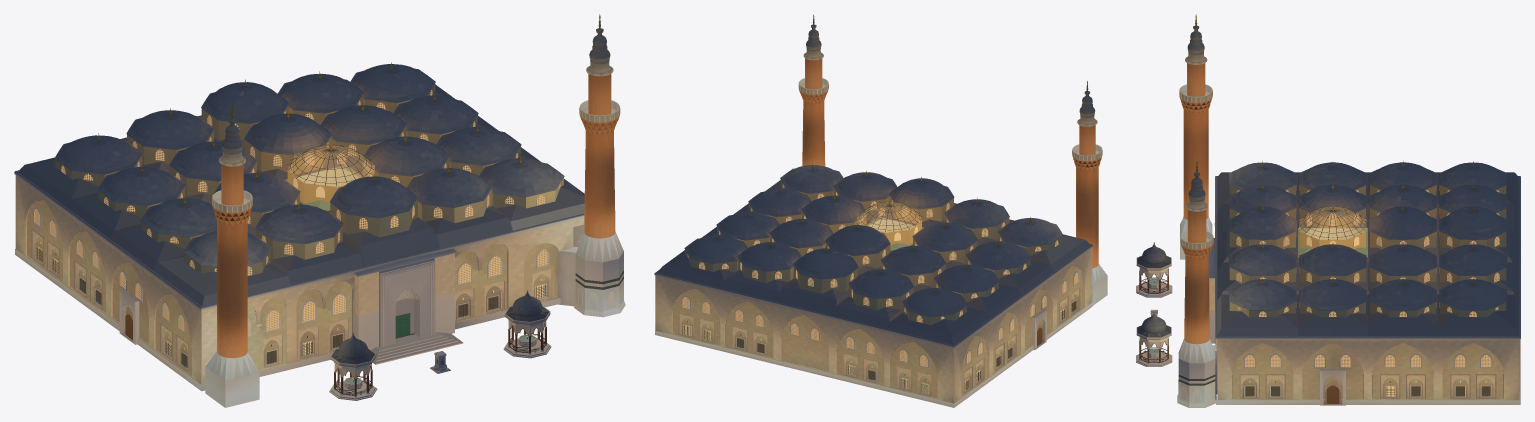
File: ulu-cami_v27_night.glb
3 renders of one model, left to right at view 1: azimuth 30°, elevation 25°; view 2: azimuth 150°, elevation 25°; view 3: azimuth 270°, elevation 25°, orthographic. The views are drawn at different scales.
Parts seen in each view (by area): view 1: Kubbeler_19, Cati, Cephe_Kuzey, Cephe_Dogu, Minare_1, Minare_2, Pencere_Girintileri, Tac_Kapi, Giris_Cikintili_Blok, Sadirvan_Kubbe, Kasnak_Pencereleri, Avlu_Sadirvan_Bati (+6 smaller); view 2: Kubbeler_19, Cephe_Guney, Cati, Cephe_Dogu, Pencere_Girintileri, Minare_2, Minare_1, Mermer_Bant, Sadirvan_Kubbe, Kasnak_Pencereleri, Silme_Ust, Sadirvan_Iskeleti (+1 smaller); view 3: Kubbeler_19, Cephe_Bati, Cati, Minare_1, Minare_2, Pencere_Girintileri, Sadirvan_Kubbe, Kasnak_Pencereleri, Avlu_Sadirvan_Dogu, Avlu_Sadirvan_Bati, Mermer_Bant, Kapi_Bati (+3 smaller).
Part boxes in pixels (x1,y1,x2,y2): Kubbeler_19: (54, 64, 564, 276); Cati: (14, 84, 584, 308); Cephe_Kuzey: (201, 217, 584, 384); Cephe_Dogu: (16, 175, 200, 384); Minare_1: (558, 14, 625, 317); Minare_2: (205, 104, 259, 407); Pencere_Girintileri: (31, 229, 553, 372); Tac_Kapi: (371, 258, 463, 364); Giris_Cikintili_Blok: (353, 248, 457, 350); Sadirvan_Kubbe: (287, 145, 374, 203); Kasnak_Pencereleri: (61, 90, 560, 275); Avlu_Sadirvan_Bati: (503, 290, 551, 358); Kubbeler_19: (684, 165, 1062, 325); Cephe_Guney: (655, 275, 954, 403); Cati: (654, 180, 1092, 346); Cephe_Dogu: (954, 248, 1091, 402); Pencere_Girintileri: (678, 287, 1080, 396); Minare_2: (1072, 81, 1107, 305); Minare_1: (798, 14, 828, 166); Mermer_Bant: (655, 302, 1092, 407); Sadirvan_Kubbe: (857, 202, 922, 245); Kasnak_Pencereleri: (687, 184, 1058, 322); Silme_Ust: (654, 245, 1093, 347); Sadirvan_Iskeleti: (857, 201, 922, 231); Kubbeler_19: (1229, 162, 1506, 317); Cephe_Bati: (1217, 339, 1518, 403); Cati: (1215, 172, 1520, 337); Minare_1: (1177, 161, 1217, 407); Minare_2: (1179, 14, 1212, 259); Pencere_Girintileri: (1239, 374, 1496, 398); Sadirvan_Kubbe: (1299, 207, 1366, 249); Kasnak_Pencereleri: (1236, 185, 1499, 316); Avlu_Sadirvan_Dogu: (1136, 242, 1172, 297); Avlu_Sadirvan_Bati: (1136, 312, 1172, 366); Mermer_Bant: (1215, 339, 1520, 404); Kapi_Bati: (1320, 369, 1345, 405).
Bounding box in the file's own units: 70.59 × 48.1 × 70.23.
Materials: 40 (5 with a texture image).
